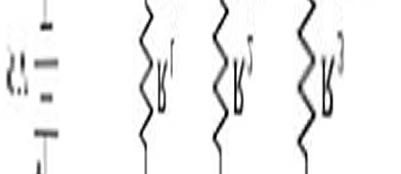resistor: (127, 2, 155, 152), (206, 0, 227, 146), (293, 1, 312, 155)
